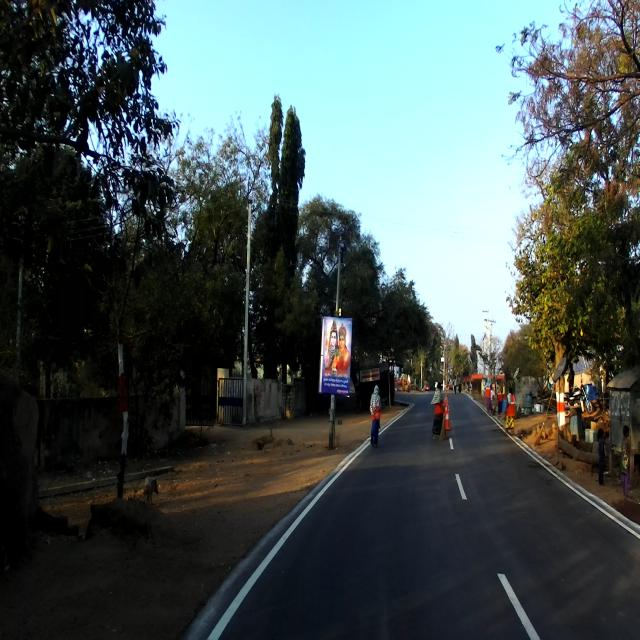electric pole ahead at: (322, 226, 353, 453)
